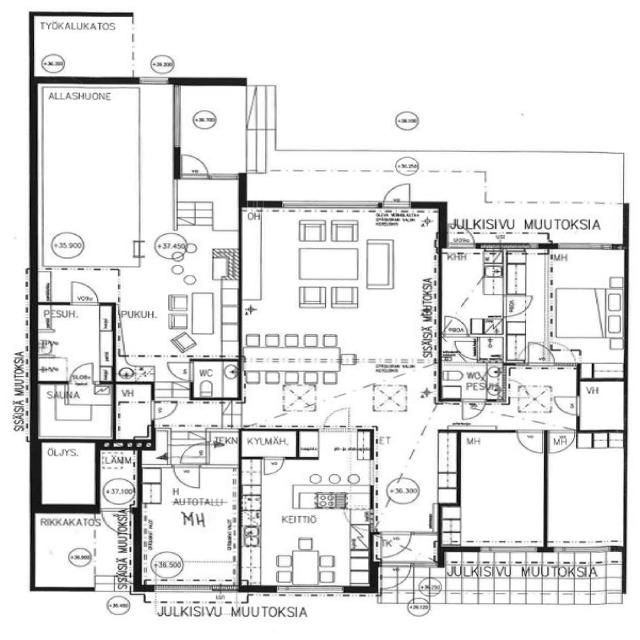door: (522, 340, 566, 367), (98, 506, 136, 536), (376, 529, 413, 559), (170, 460, 205, 491), (320, 404, 357, 432), (66, 280, 104, 307), (381, 181, 416, 210), (514, 426, 547, 456), (502, 292, 536, 320), (178, 152, 212, 180), (446, 226, 479, 251), (546, 427, 576, 454), (552, 392, 583, 418), (457, 397, 487, 423), (380, 564, 410, 590), (150, 397, 180, 421), (68, 360, 98, 384), (166, 359, 195, 383), (176, 442, 209, 462), (455, 340, 479, 364), (260, 456, 286, 478)
window: (273, 197, 382, 217), (146, 580, 235, 600), (268, 583, 347, 599), (475, 542, 543, 560), (550, 539, 618, 556), (552, 240, 622, 252), (90, 578, 127, 594), (206, 169, 244, 183), (502, 242, 545, 253), (479, 239, 502, 250)
zone: (238, 208, 444, 330), (39, 81, 141, 270), (168, 181, 243, 362), (137, 463, 243, 588), (441, 428, 548, 550), (236, 509, 372, 587), (547, 432, 627, 549), (545, 247, 627, 359), (32, 511, 130, 589), (246, 459, 375, 509), (34, 14, 134, 78), (37, 302, 114, 383), (441, 247, 505, 335), (35, 382, 115, 440), (36, 439, 97, 506), (95, 443, 141, 512), (439, 360, 506, 400), (578, 379, 627, 432), (504, 269, 548, 328), (112, 381, 155, 440), (190, 359, 240, 398), (240, 428, 298, 458), (205, 430, 240, 467), (475, 336, 508, 360)
